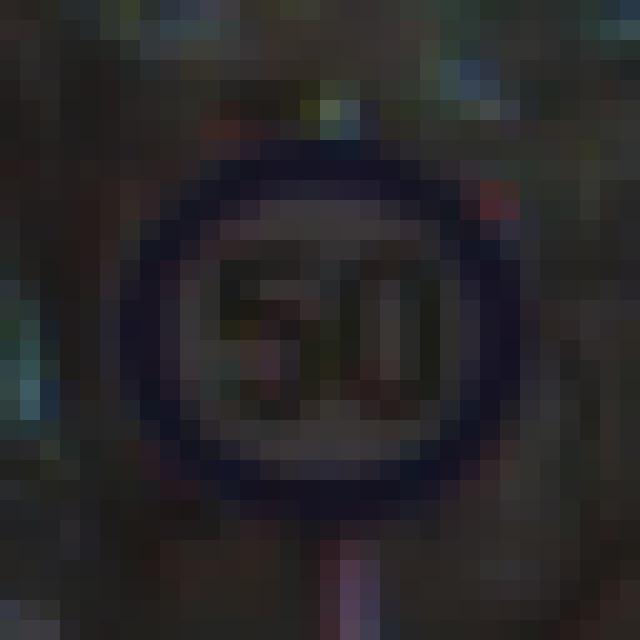SPEED LIMIT 50: (134, 160, 520, 506)
